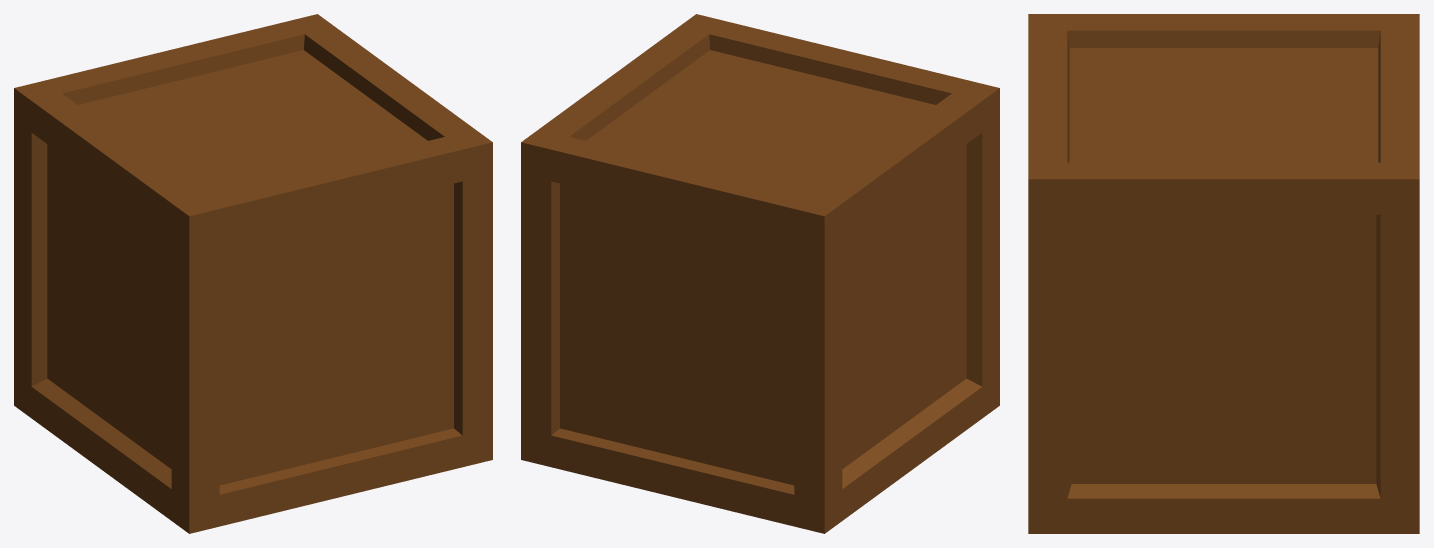
Rendered from crate.fbx.
3 views of the same model, side by side, from view 1: azimuth 30°, elevation 25°; view 2: azimuth 150°, elevation 25°; view 3: azimuth 270°, elevation 25° (orthographic). The views are drawn at different scales.
Visible parts, largest first — view 1: Crate; view 2: Crate; view 3: Crate.
Part boxes in pixels (x1=…): Crate: x1=14, y1=14, x2=492, y2=533; Crate: x1=521, y1=14, x2=999, y2=533; Crate: x1=1028, y1=14, x2=1419, y2=533.
Bounding box in the file's own units: 74.39 × 74.39 × 74.39.
